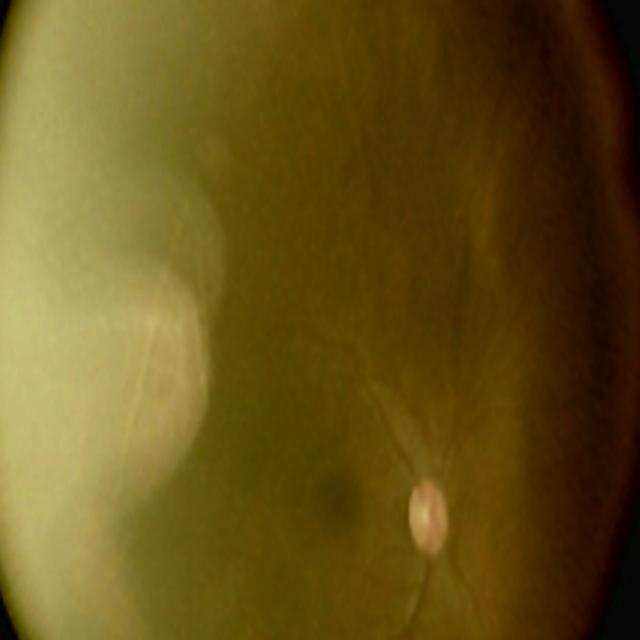optic-nerve: (385, 434, 475, 608)
